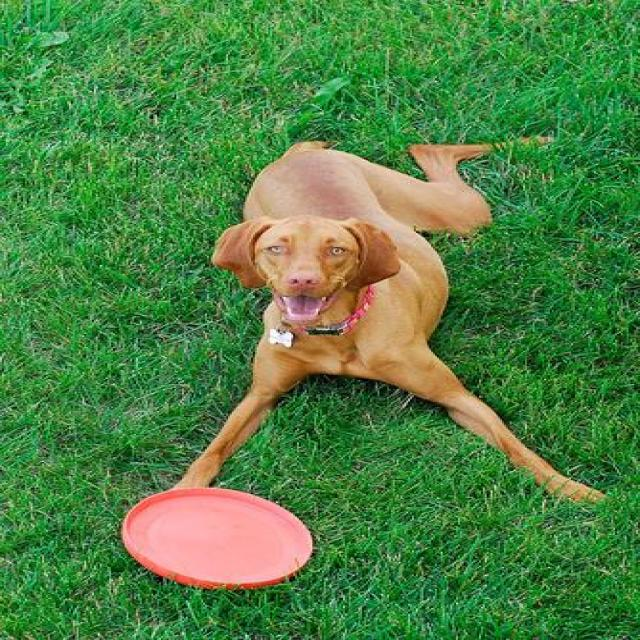vizsla: (163, 136, 603, 507)
